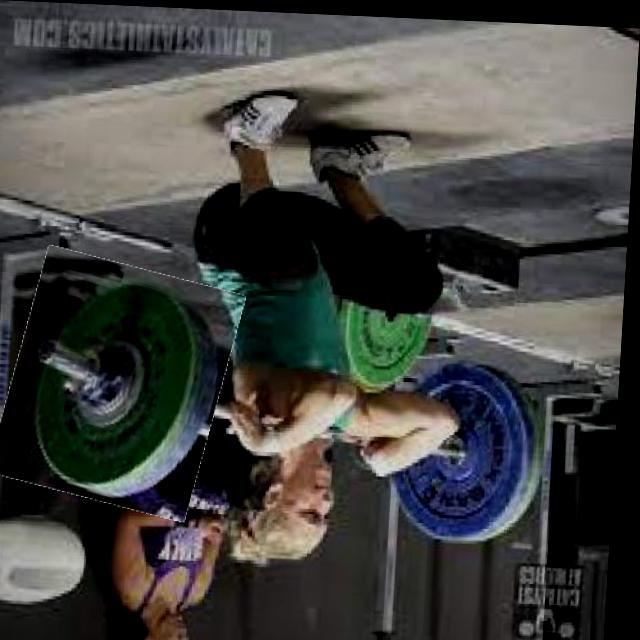barbell: (3, 253, 241, 513)
